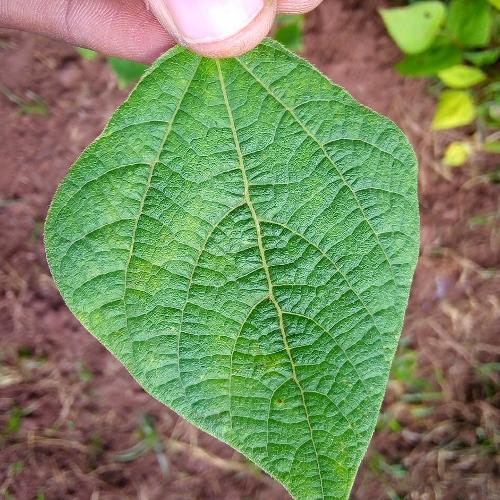mozaik: (99, 143, 225, 335), (210, 346, 368, 414)
